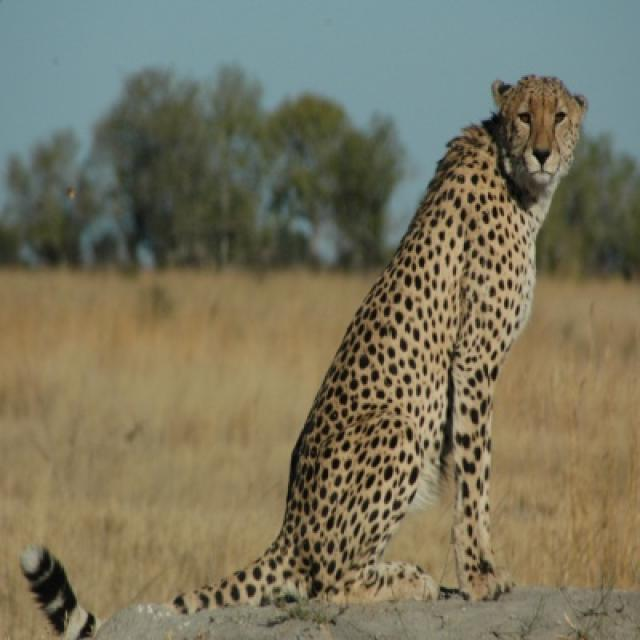Cheetah: (160, 75, 586, 613)
